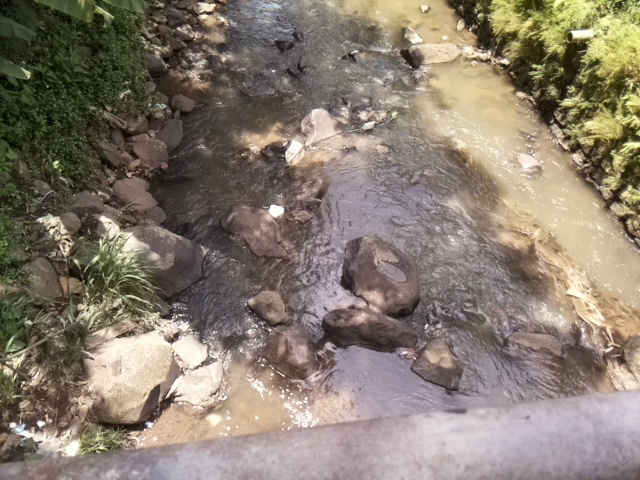Sampah_Plastik: (285, 138, 303, 167)
Sampah_Styrofoam: (268, 202, 286, 218)
